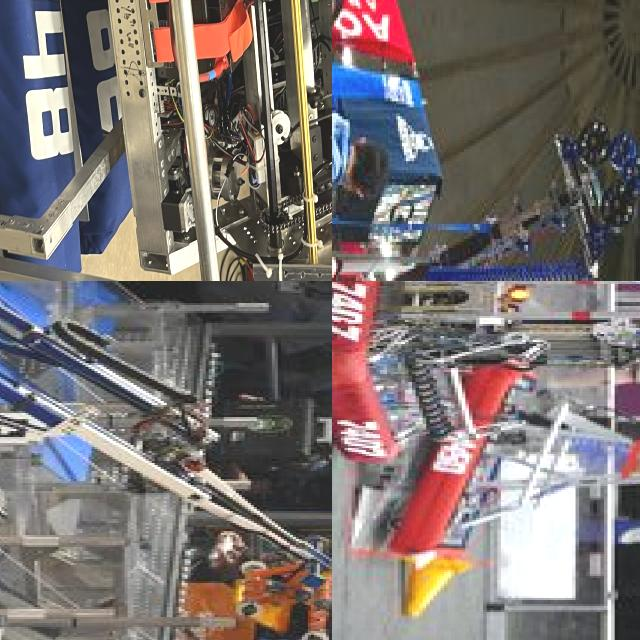FRC-Robots: (0, 281, 332, 640), (0, 0, 332, 281), (332, 0, 640, 281), (384, 367, 640, 565), (332, 281, 640, 438)
